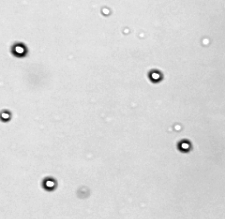Living Cell: (11, 43, 28, 57), (42, 177, 58, 191), (148, 69, 163, 83), (177, 139, 193, 152), (1, 110, 11, 122)
